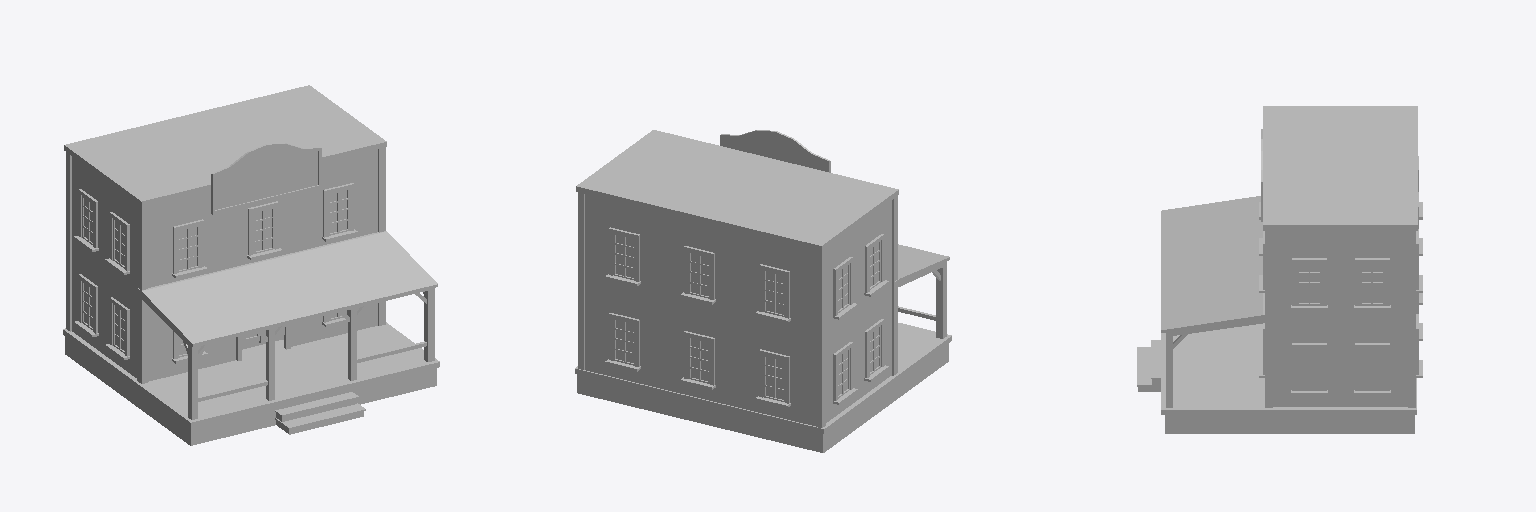
The model's file is Saloon2.obj.
The picture shows the model from 3 angles: view 1: azimuth 30°, elevation 25°; view 2: azimuth 150°, elevation 25°; view 3: azimuth 270°, elevation 25°; orthographic projection.
Parts seen in each view (by area): view 1: Saloon.001; view 2: Saloon.001; view 3: Saloon.001.
Part boxes in pixels (x1,y1,x2,y2): Saloon.001: (63, 85, 439, 445); Saloon.001: (575, 130, 951, 452); Saloon.001: (1137, 106, 1422, 433).
Bounding box in the file's own units: 1.57 × 1.39 × 1.53.